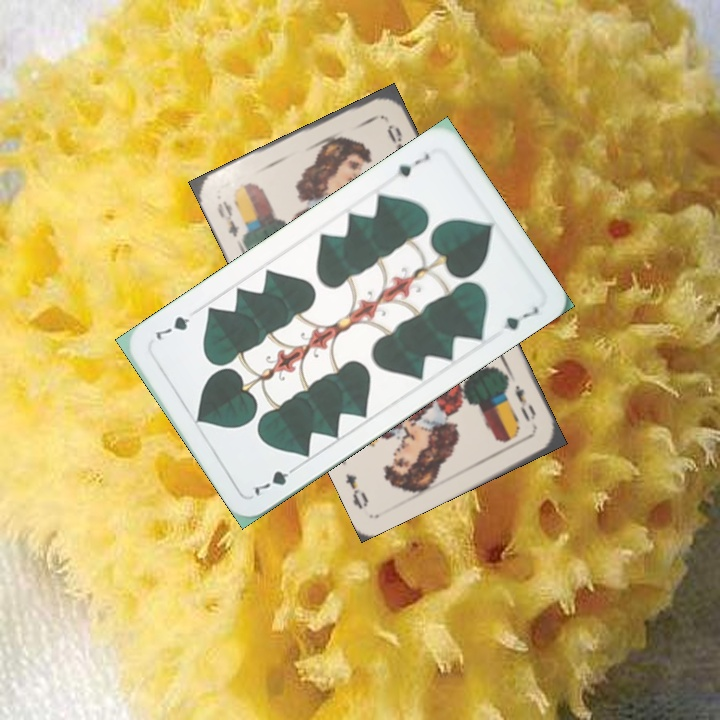EO: (510, 381, 539, 425), (213, 196, 242, 240)
G7: (250, 461, 302, 499), (386, 149, 433, 181)
